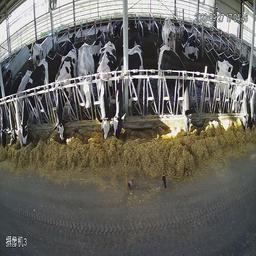cow: (154, 41, 190, 134), (110, 47, 145, 138), (214, 55, 250, 129), (23, 60, 48, 146), (50, 48, 73, 141), (95, 42, 113, 136), (71, 44, 93, 111), (182, 26, 202, 63), (14, 69, 23, 150), (161, 14, 178, 52), (1, 76, 9, 148), (8, 73, 16, 142), (27, 41, 44, 62), (93, 30, 104, 60), (63, 31, 77, 54), (111, 19, 123, 37)
